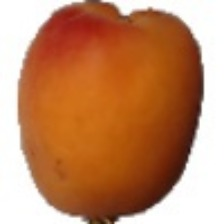apricot: (29, 50, 166, 190)
